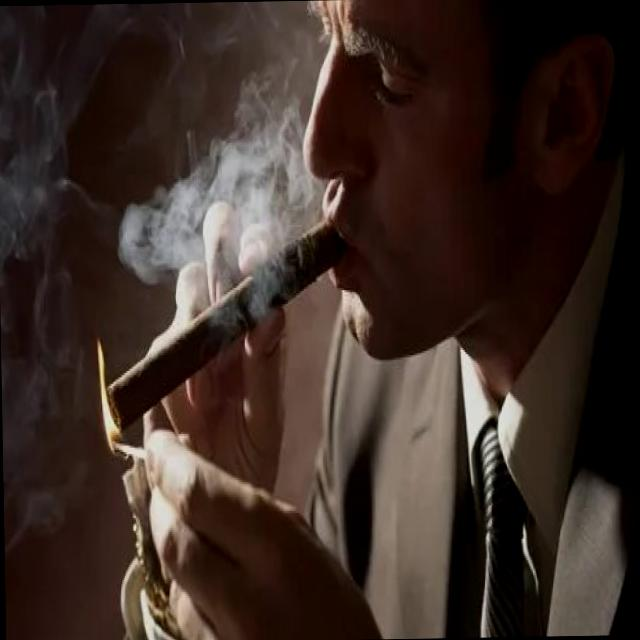cigarette: (98, 208, 347, 438)
